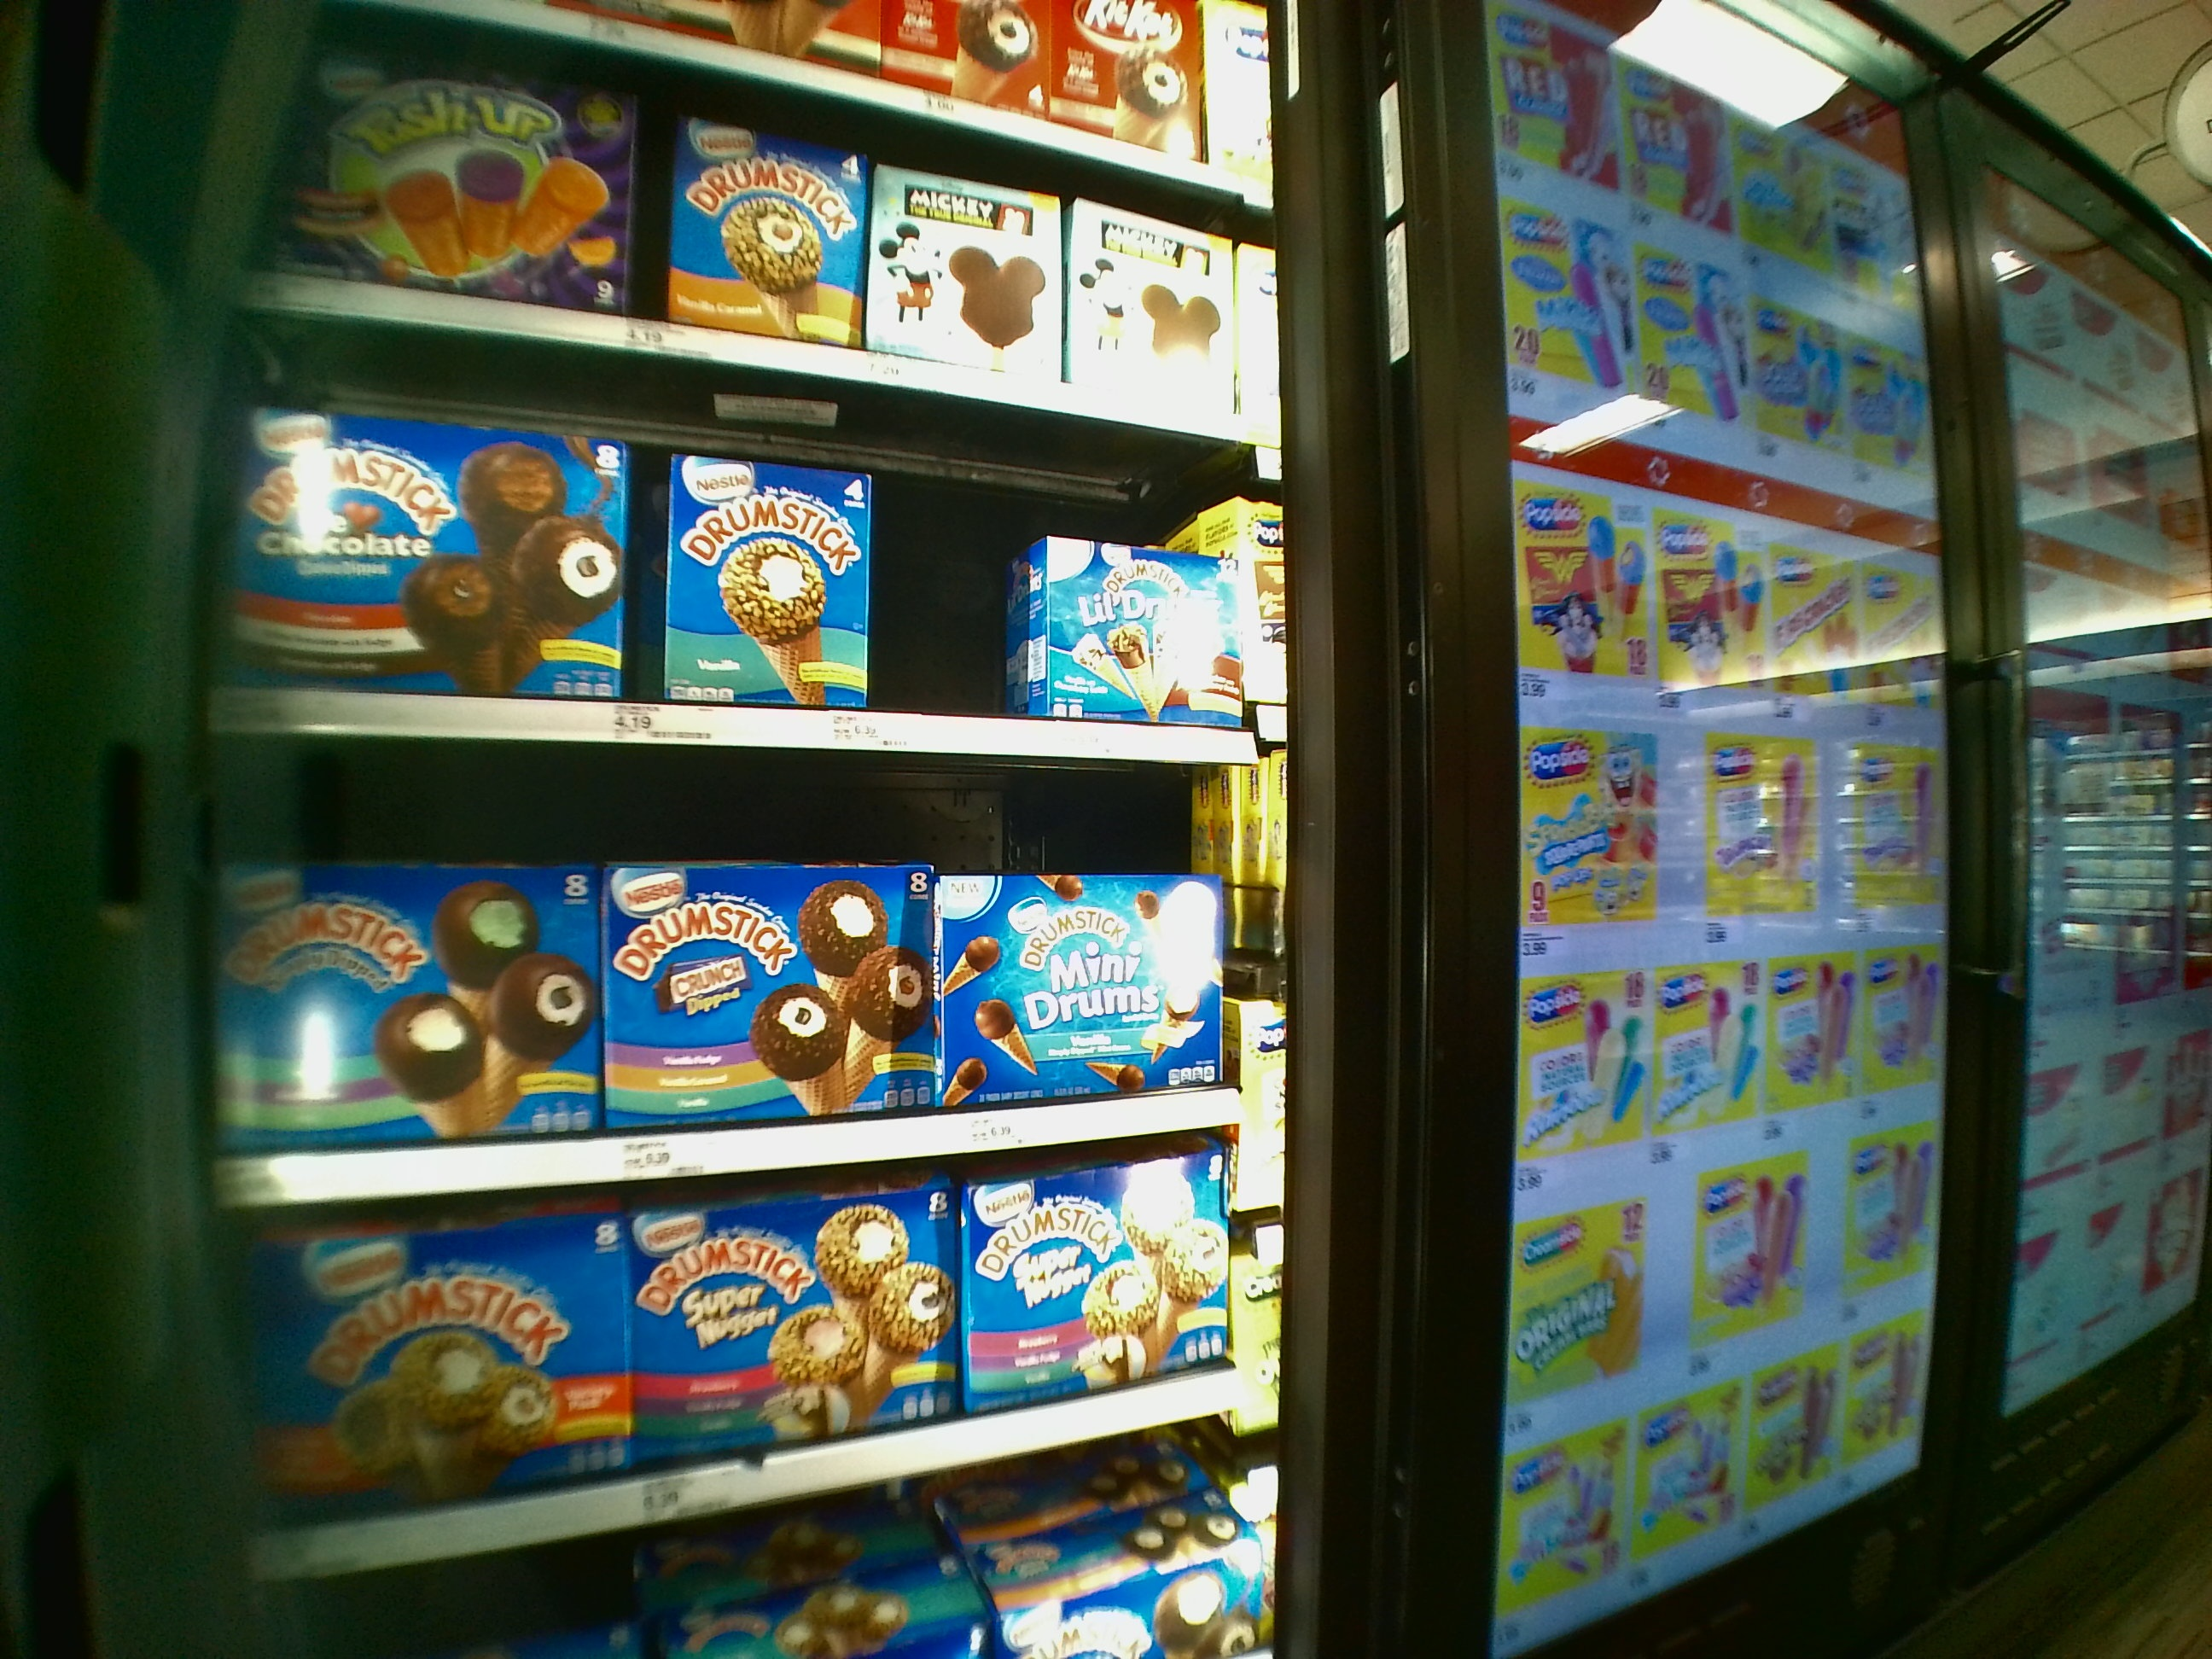shelf: (206, 751, 1277, 1188), (209, 408, 1277, 758), (237, 1197, 1270, 1532), (249, 112, 1277, 410)
